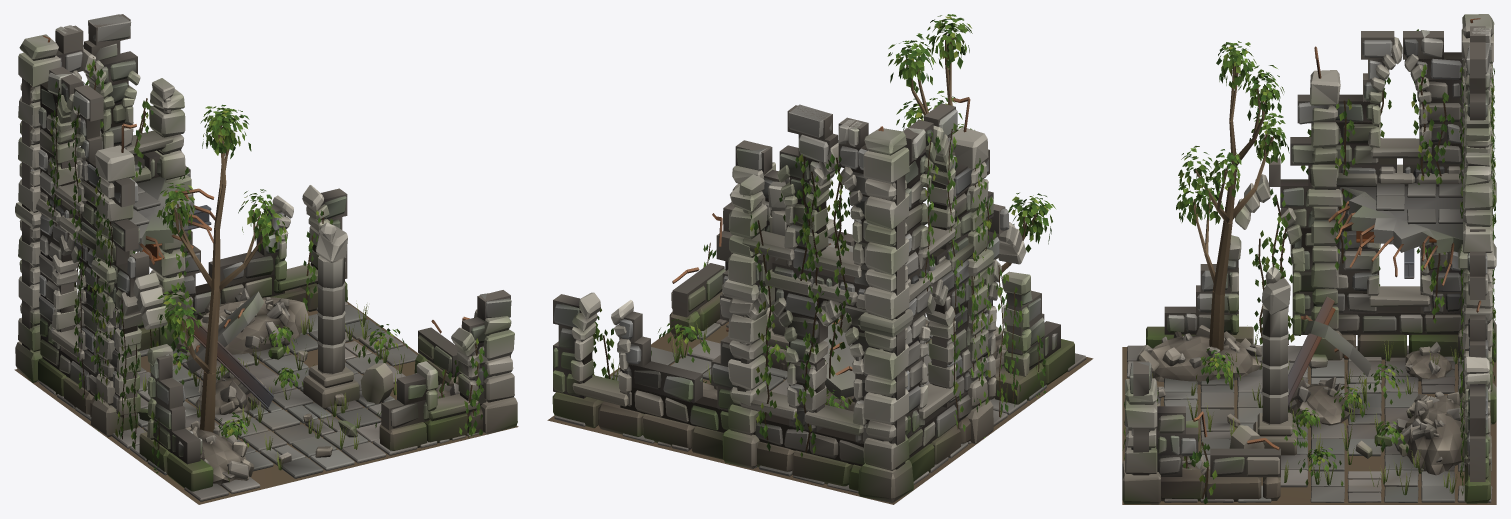
File: overgrown-ruins.glb
3 renders of one model, left to right at view 1: azimuth 30°, elevation 25°; view 2: azimuth 150°, elevation 25°; view 3: azimuth 270°, elevation 25°, orthographic. The views are drawn at different scales.
Visible parts, largest first — view 1: overgrown-ruins; view 2: overgrown-ruins; view 3: overgrown-ruins.
Boxes of the visible parts, x1=… form: overgrown-ruins: x1=14, y1=14, x2=518, y2=504; overgrown-ruins: x1=547, y1=14, x2=1093, y2=504; overgrown-ruins: x1=1122, y1=14, x2=1496, y2=504.
Size of the model in its own units: 1 by 1 by 1.
